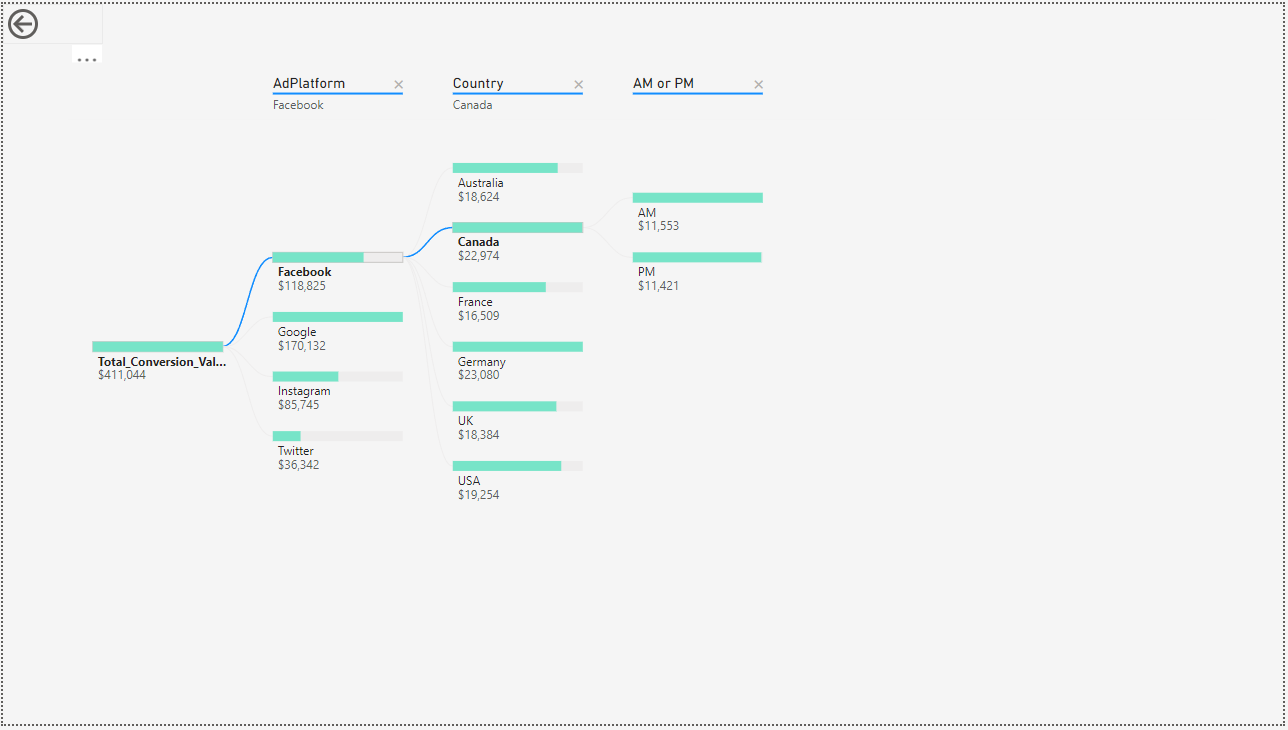

The dashboard page shown, as its layout file describes it:
{"tool":"powerbi","page":{"name":"Platform analysis","canvas":[1280,720],"ordinal":2},"visuals":[{"type":"actionButton","box":[0,0,100,40],"z":0},{"type":"decompositionTreeVisual","fields":{"ExplainBy":["FitBitDataMarketing.AdPlatform","Countries_To_imgs.Country","FitBitDataMarketing.AM or PM"],"Analyze":["FitBitDataMarketing.Total_Conversion_Value"]},"box":[60.3,54.3,1158.2,556.2],"z":1000}]}

Visuals, with their boxes on the page's 1280x720 design canvas (x1, y1, x2, y2). These are canvas units, not pixel positions in the 1288x730 screenshot, which may show the page scaled, cropped or inside an application window:
actionButton: <bbox>0, 0, 100, 40</bbox>
decompositionTreeVisual - FitBitDataMarketing.AdPlatform x Countries_To_imgs.Country: <bbox>60, 54, 1218, 610</bbox>
